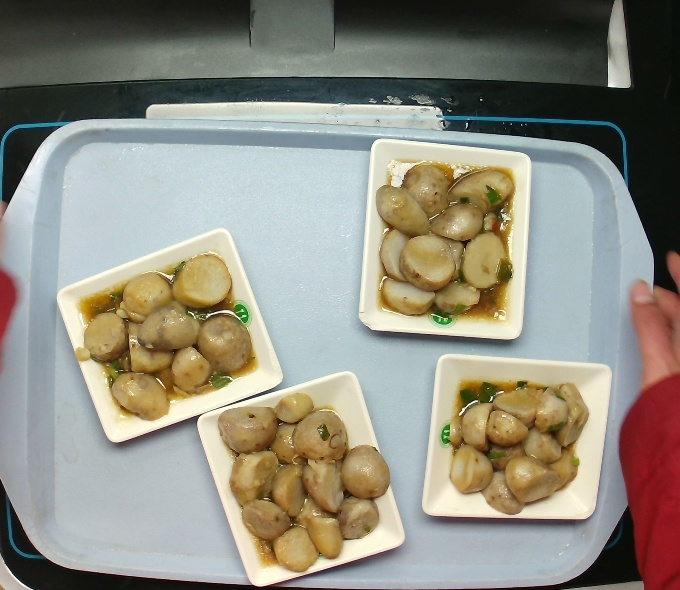wcq-YuTou: (214, 387, 395, 576), (70, 247, 262, 425), (371, 154, 519, 329), (443, 373, 593, 520)
